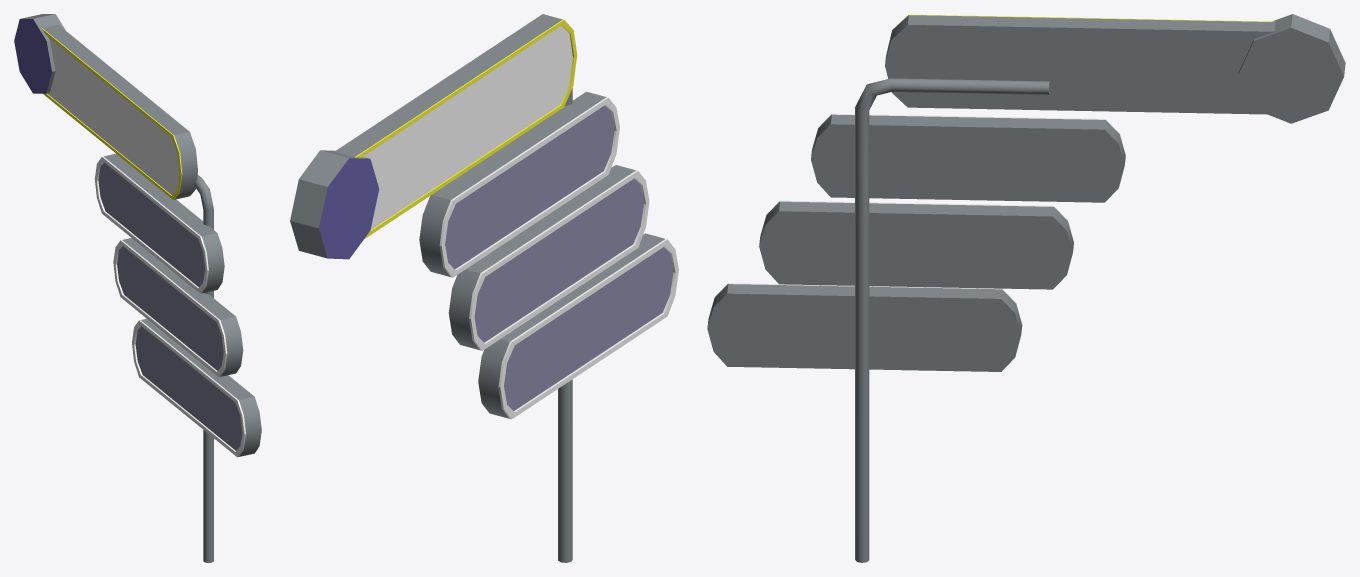
File: k_signadd.fbx
The picture shows the model from 3 angles, left to right: view 1: azimuth 30°, elevation 25°; view 2: azimuth 150°, elevation 25°; view 3: azimuth 270°, elevation 25°; orthographic projection. The views are drawn at different scales.
Visible parts, largest first — view 1: Sign_name, Sign_etc02, Sign_etc01, Sign_etc03, Sign_07, Sign_15, Sign_20, Sign_num, Sign_05, Sign_17, Sign_16, Sign_02 (+3 smaller); view 2: Sign_name, Sign_etc03, Sign_etc01, Sign_etc02, Sign_15, Sign_num, Sign_07, Sign_20, Sign_19, Sign_02, Sign_16, Sign_03 (+3 smaller); view 3: Sign_07, Sign_20, Sign_15, Sign_17, Sign_05, Sign_03.
Part boxes in pixels (left/top/right/bottom): Sign_name: left=42, top=34, right=179, bottom=194; Sign_etc02: left=117, top=246, right=223, bottom=370; Sign_etc01: left=98, top=163, right=205, bottom=287; Sign_etc03: left=135, top=326, right=242, bottom=450; Sign_07: left=43, top=24, right=197, bottom=199; Sign_15: left=104, top=153, right=224, bottom=293; Sign_20: left=122, top=238, right=243, bottom=376; Sign_num: left=14, top=19, right=51, bottom=93; Sign_05: left=194, top=175, right=213, bottom=562; Sign_17: left=141, top=318, right=261, bottom=456; Sign_16: left=132, top=320, right=245, bottom=457; Sign_02: left=94, top=156, right=208, bottom=293; Sign_name: left=362, top=26, right=572, bottom=229; Sign_etc03: left=504, top=247, right=673, bottom=410; Sign_etc01: left=445, top=105, right=614, bottom=269; Sign_etc02: left=474, top=178, right=643, bottom=342; Sign_15: left=419, top=91, right=606, bottom=276; Sign_num: left=319, top=158, right=379, bottom=259; Sign_07: left=319, top=14, right=562, bottom=233; Sign_20: left=448, top=165, right=635, bottom=350; Sign_19: left=469, top=170, right=649, bottom=350; Sign_02: left=439, top=97, right=619, bottom=277; Sign_16: left=498, top=239, right=678, bottom=419; Sign_03: left=290, top=150, right=369, bottom=258; Sign_07: left=885, top=15, right=1275, bottom=114; Sign_20: left=759, top=201, right=1073, bottom=289; Sign_15: left=811, top=114, right=1125, bottom=202; Sign_17: left=707, top=284, right=1022, bottom=371; Sign_05: left=855, top=78, right=1049, bottom=562; Sign_03: left=1238, top=14, right=1345, bottom=123.
Bounding box in the file's own units: 0.00618 × 0.0627 × 0.067.
